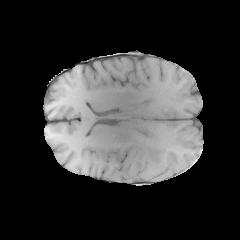glioma: (132, 139, 176, 176)
